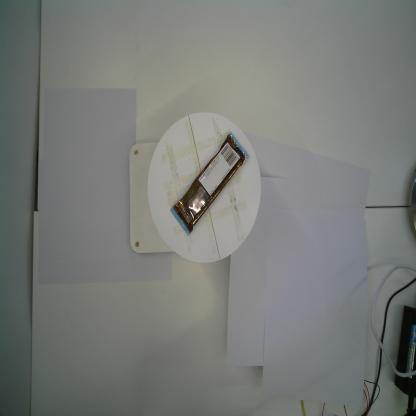Chocolate: (168, 130, 253, 236)
